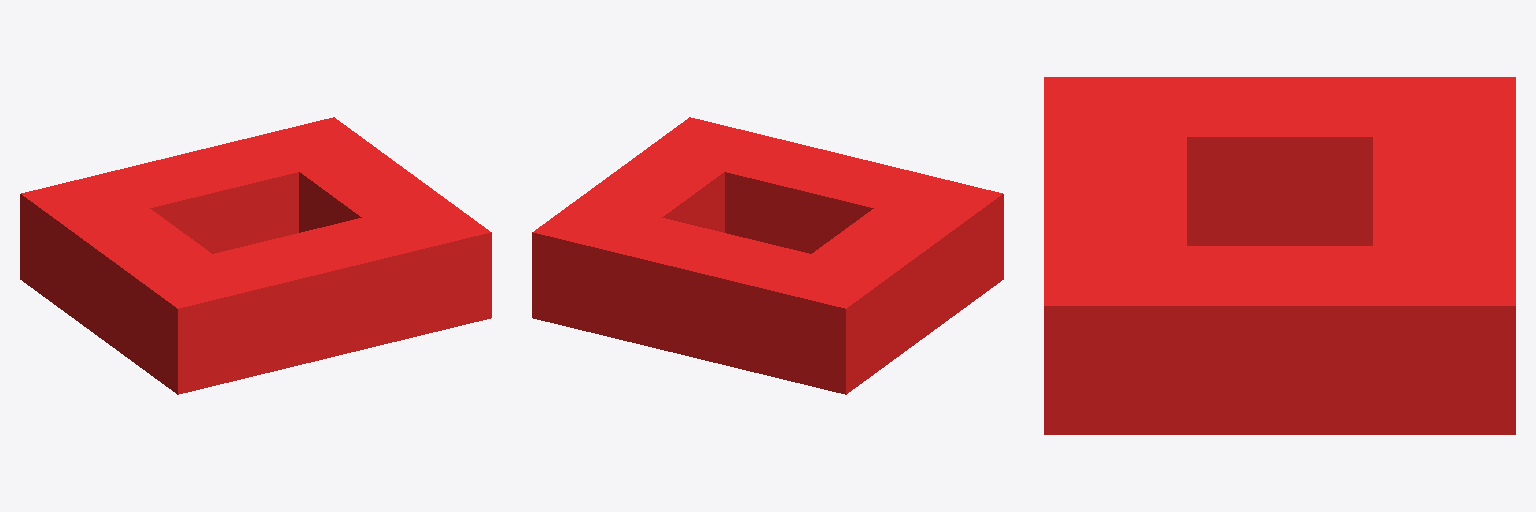
URDF robot description (hole):
<?xml version="1.0" ?>
<robot name="hole">
  <link name="baseLink">
    <contact>
      <lateral_friction value="0.5"/>
      <rolling_friction value="0.5"/>
      <contact_cfm value="0.0"/>
      <contact_erp value="1.0"/>
    </contact>
    <inertial>
      <origin rpy="0 0 0" xyz="0 0 0"/>
       <mass value="0.0"/>
       <inertia ixx="0" ixy="0" ixz="0" iyy="0" iyz="0" izz="0"/>
    </inertial>
    <visual>
      <origin rpy="0 0 1.570796" xyz="0 -0.01 0"/>
      <geometry>
				<mesh filename="hole_single.obj" scale="1 1 1"/>
      </geometry>
       <material name="white">
        <color rgba="1 0.2 0.2 1.0"/>
      </material>
    </visual>
    <collision>
      <origin rpy="0 0 1.570796" xyz="0 0 0"/>
      <geometry>
	 	<mesh filename="hole_single.obj" scale="1 1 1"/>
      </geometry>
    </collision>
  </link>
</robot>

--- Render facts (derived) ---
3 views of the same robot in one strip: view 1: azimuth 30°, elevation 25°; view 2: azimuth 150°, elevation 25°; view 3: azimuth 270°, elevation 25° (orthographic).
Model hole with 1 links and 0 joints (none), rooted at baseLink, posed every joint at zero.
Links seen in each view (by area): view 1: baseLink; view 2: baseLink; view 3: baseLink.
Link boxes in pixels (<box>): baseLink: <box>20,117,491,394</box>; baseLink: <box>532,117,1003,394</box>; baseLink: <box>1044,77,1515,434</box>.
Size in the robot's own frame: 0.1145 by 0.0995 by 0.03 metres.
Meshes: 1 distinct files referenced, 1 mesh visuals loaded (1 OBJ).